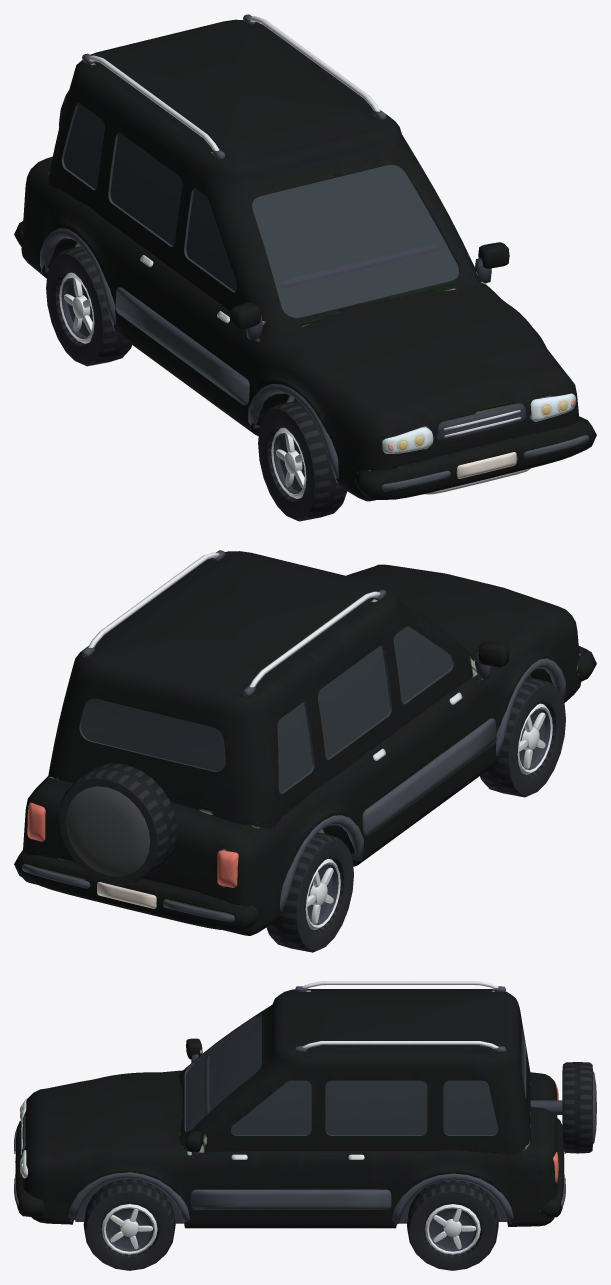
The model's file is car_suv.glb.
3 views of the same model, one above another, from view 1: azimuth 30°, elevation 25°; view 2: azimuth 150°, elevation 25°; view 3: azimuth 270°, elevation 25° (orthographic). The views are drawn at different scales.
Visible parts, largest first — view 1: 1990s-suv_body, 1990s-suv_windows, 1990s-suv_wheel_fr, 1990s-suv_wheel_rr; view 2: 1990s-suv_body, 1990s-suv_windows, 1990s-suv_spare_tyre, 1990s-suv_wheel_rr, 1990s-suv_wheel_fr; view 3: 1990s-suv_body, 1990s-suv_windows, 1990s-suv_wheel_fl, 1990s-suv_wheel_rl, 1990s-suv_spare_tyre.
Boxes of the visible parts, box(x1,y1,x2,y2) form: 1990s-suv_body: box(14, 14, 596, 501); 1990s-suv_windows: box(64, 103, 458, 317); 1990s-suv_wheel_fr: box(258, 400, 347, 521); 1990s-suv_wheel_rr: box(46, 246, 131, 366); 1990s-suv_body: box(14, 550, 596, 935); 1990s-suv_windows: box(81, 626, 451, 793); 1990s-suv_spare_tyre: box(58, 763, 177, 885); 1990s-suv_wheel_rr: box(266, 832, 353, 952); 1990s-suv_wheel_fr: box(480, 677, 565, 797); 1990s-suv_body: box(14, 981, 565, 1228); 1990s-suv_windows: box(186, 1015, 524, 1134); 1990s-suv_wheel_fl: box(83, 1178, 175, 1270); 1990s-suv_wheel_rl: box(407, 1180, 498, 1270); 1990s-suv_spare_tyre: box(530, 1062, 596, 1153).
Bounding box in the file's own units: 1.95 × 1.91 × 4.69.
8 materials, 2 textured.
